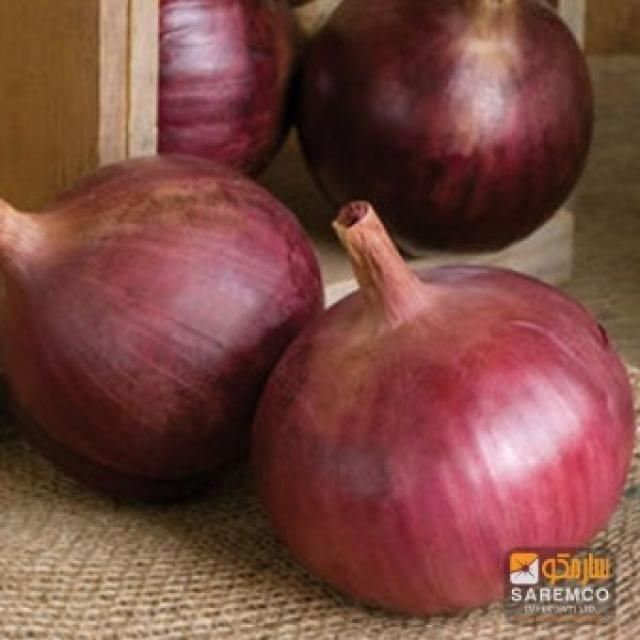onion: (276, 224, 636, 605), (7, 160, 314, 498), (308, 0, 592, 252), (144, 0, 300, 189)
